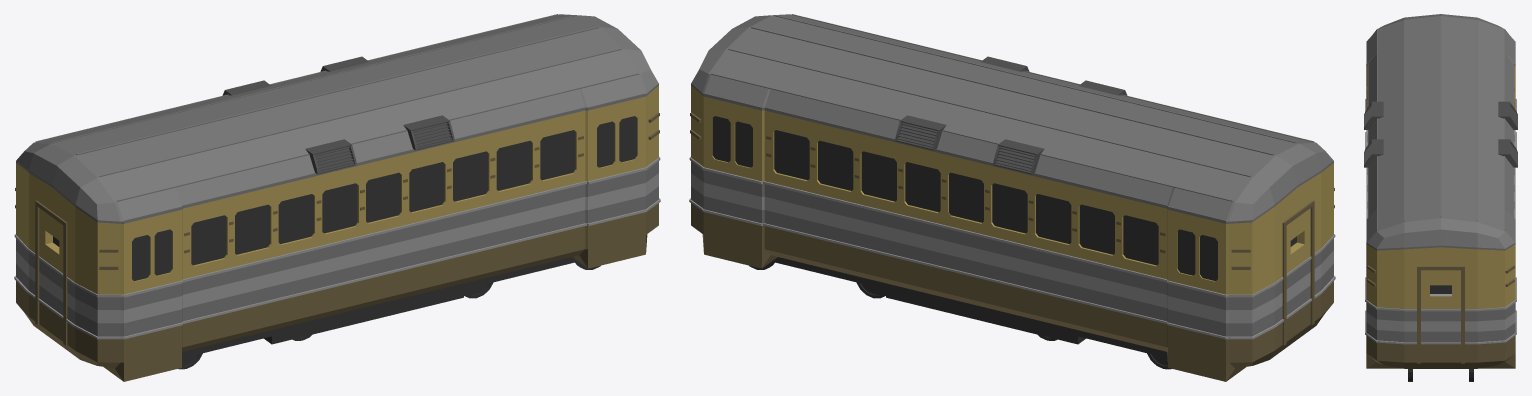
The model's file is vagon.fbx.
The picture shows the model from 3 angles, left to right: view 1: azimuth 30°, elevation 25°; view 2: azimuth 150°, elevation 25°; view 3: azimuth 270°, elevation 25°; orthographic projection. The views are drawn at different scales.
Visible parts, largest first — view 1: CargoTrain_Wagon.005, CargoTrain_Wagon.001, CargoTrain_Wagon.002, CargoTrain_Wagon.006, CargoTrain_Wagon.004, CargoTrain_Wagon.003; view 2: CargoTrain_Wagon.005, CargoTrain_Wagon.001, CargoTrain_Wagon.002, CargoTrain_Wagon.006, CargoTrain_Wagon.004, CargoTrain_Wagon.003; view 3: CargoTrain_Wagon.005, CargoTrain_Wagon.001, CargoTrain_Wagon.002, CargoTrain_Wagon.004, CargoTrain_Wagon.006.
Boxes of the visible parts, x1,y1,x2,y2 form: CargoTrain_Wagon.005: (16,14,658,336); CargoTrain_Wagon.001: (16,86,658,294); CargoTrain_Wagon.002: (15,112,659,381); CargoTrain_Wagon.006: (53,116,637,281); CargoTrain_Wagon.004: (14,56,660,339); CargoTrain_Wagon.003: (182,257,577,358); CargoTrain_Wagon.005: (691,14,1333,336); CargoTrain_Wagon.001: (691,86,1333,294); CargoTrain_Wagon.002: (690,112,1334,381); CargoTrain_Wagon.006: (712,116,1296,281); CargoTrain_Wagon.004: (689,56,1335,339); CargoTrain_Wagon.003: (772,257,1167,358); CargoTrain_Wagon.005: (1366,14,1515,342); CargoTrain_Wagon.001: (1366,66,1515,308); CargoTrain_Wagon.002: (1366,87,1515,368); CargoTrain_Wagon.004: (1364,99,1517,344); CargoTrain_Wagon.006: (1430,285,1451,293).
Bounding box in the file's own units: 711 × 262 × 210.
